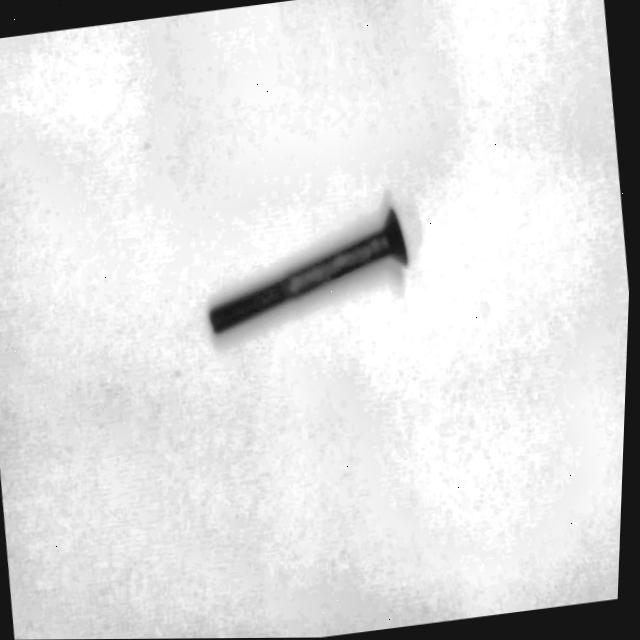Flat head socket screw: (195, 198, 422, 340)
